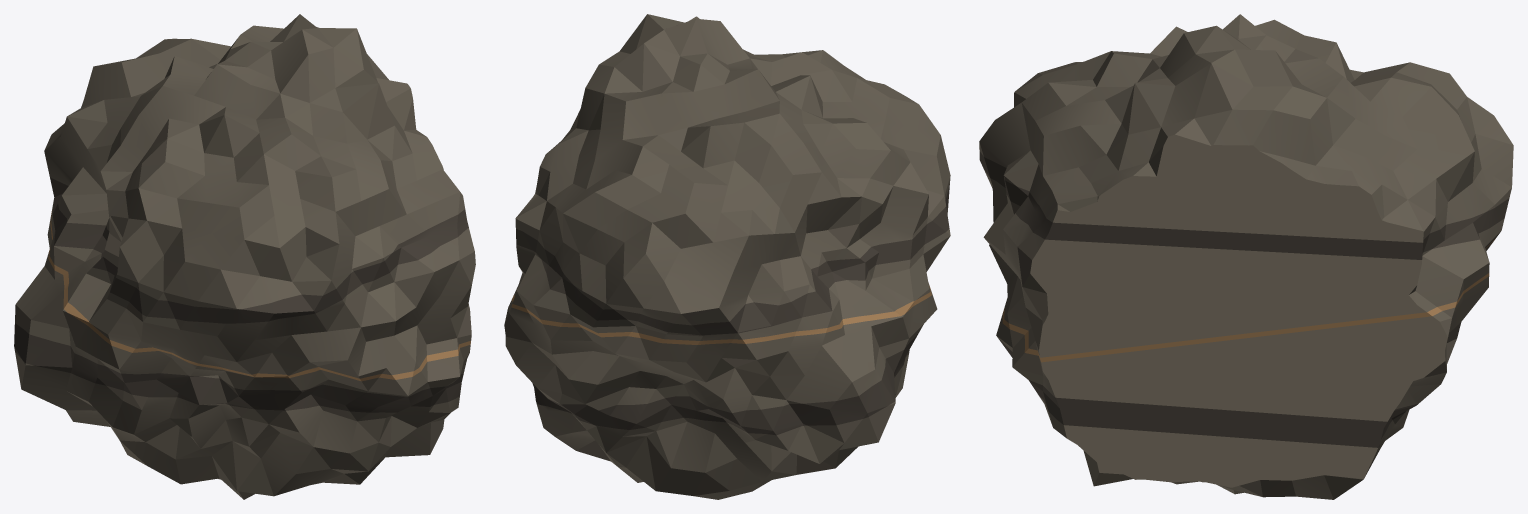
The model's file is seam_bearing_quarried_parent_rock_lod0.glb.
3 views of the same model, side by side, from view 1: azimuth 30°, elevation 25°; view 2: azimuth 150°, elevation 25°; view 3: azimuth 270°, elevation 25° (orthographic). The views are drawn at different scales.
Parts seen in each view (by area): view 1: LOD0_Stone, LOD0_Stone_strata, LOD0_vein; view 2: LOD0_Stone, LOD0_Stone_strata, LOD0_vein; view 3: LOD0_Stone_cut, LOD0_Stone, LOD0_Stone_strata, LOD0_vein.
Part boxes in pixels (bbox=[...]): LOD0_Stone: bbox=[15, 14, 475, 499]; LOD0_Stone_strata: bbox=[14, 177, 468, 412]; LOD0_vein: bbox=[48, 209, 470, 381]; LOD0_Stone: bbox=[504, 14, 950, 499]; LOD0_Stone_strata: bbox=[516, 184, 949, 435]; LOD0_vein: bbox=[511, 284, 931, 344]; LOD0_Stone_cut: bbox=[1030, 134, 1447, 487]; LOD0_Stone: bbox=[979, 14, 1513, 499]; LOD0_Stone_strata: bbox=[979, 151, 1509, 447]; LOD0_vein: bbox=[1002, 237, 1496, 362].
Bounding box in the file's own units: 2.73 × 3.61 × 3.66.
